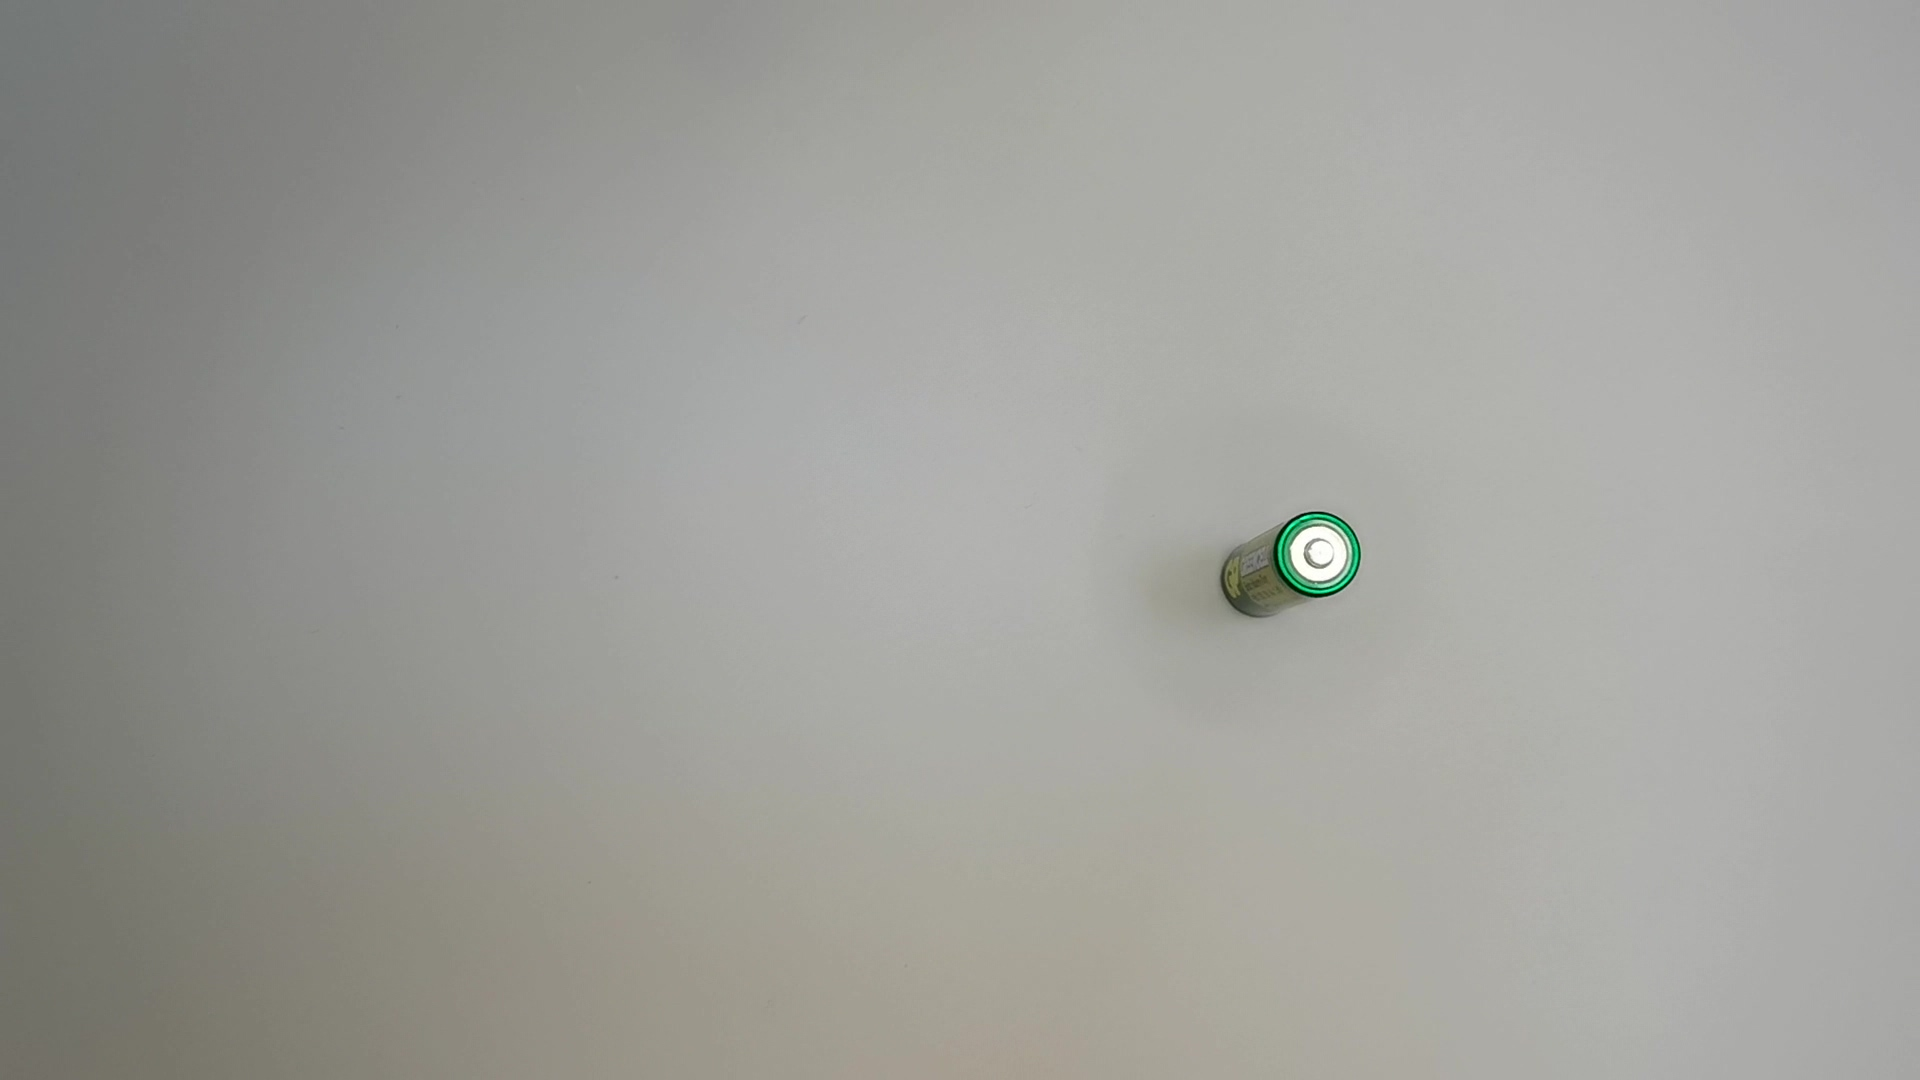battery: (1222, 512, 1366, 632)
